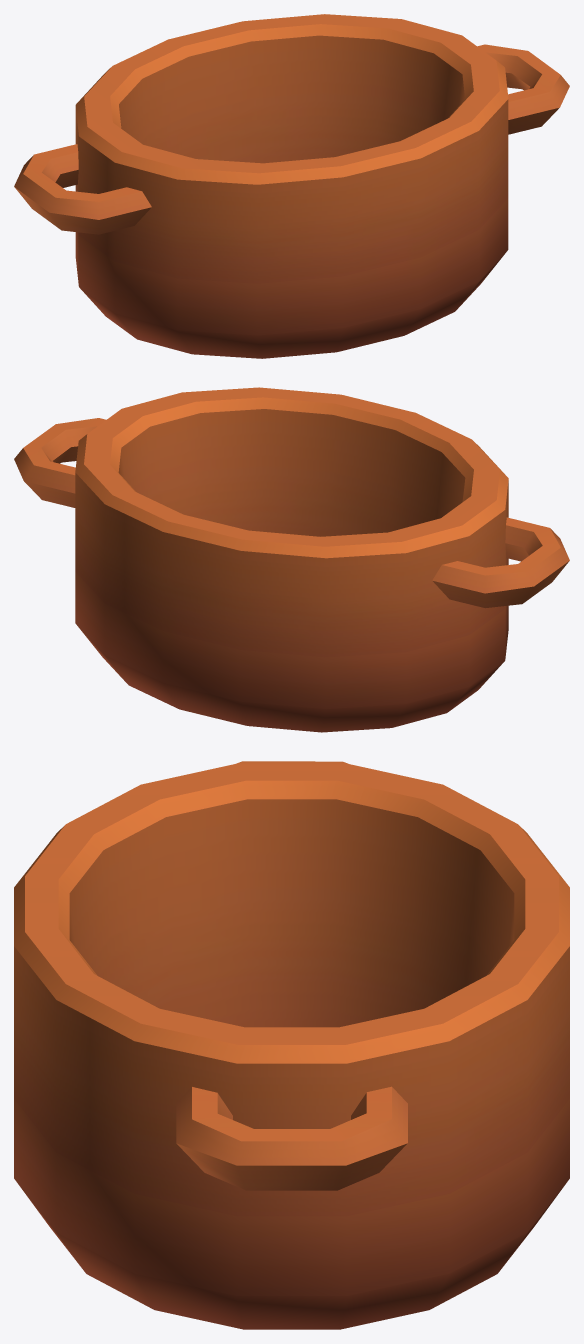
File: kaykit-restaurant-bits-pot-large.glb
3 renders of one model, top to bottom at view 1: azimuth 30°, elevation 25°; view 2: azimuth 150°, elevation 25°; view 3: azimuth 270°, elevation 25°, orthographic. The views are drawn at different scales.
Visible parts, largest first — view 1: pot_large; view 2: pot_large; view 3: pot_large.
Part boxes in pixels (<box>): pot_large: <box>14,14,569,358</box>; pot_large: <box>14,387,569,732</box>; pot_large: <box>14,761,569,1329</box>.
Size of the model in its own units: 2 by 0.7501 by 1.2.
1 material, 1 textured.
